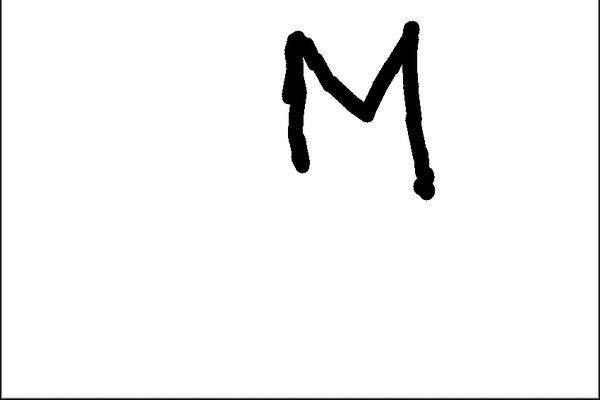M: (282, 18, 439, 202)
